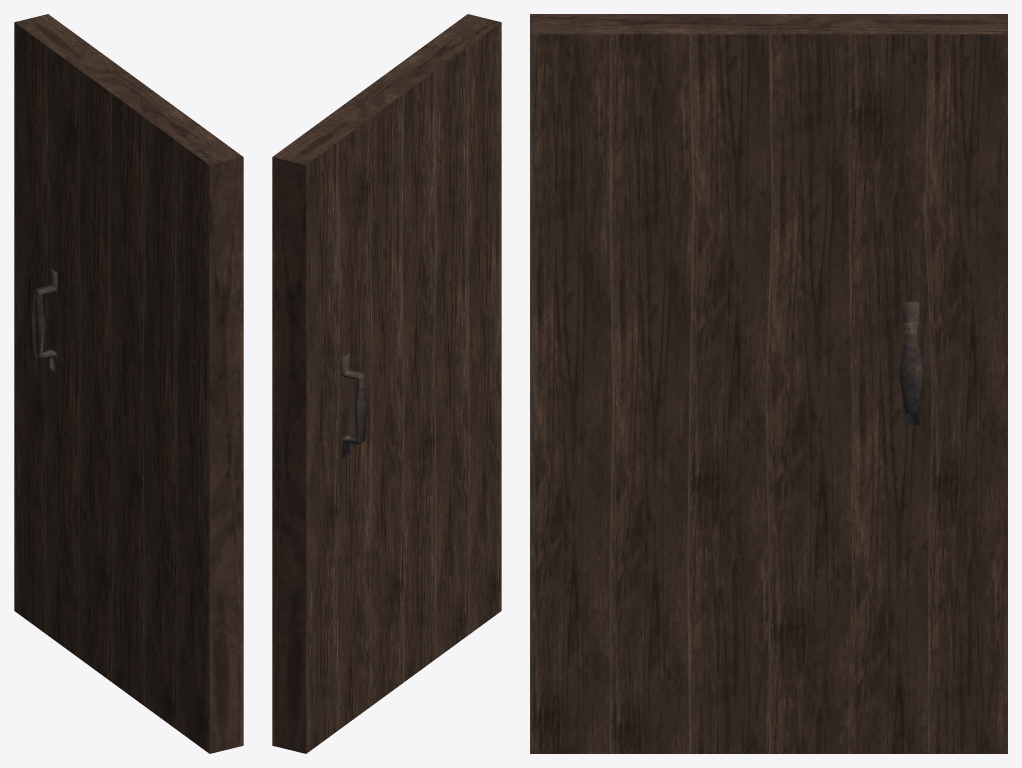
Rendered from Door.fbx.
3 renders of one model, left to right at view 1: azimuth 30°, elevation 25°; view 2: azimuth 150°, elevation 25°; view 3: azimuth 270°, elevation 25°, orthographic. The views are drawn at different scales.
Visible parts, largest first — view 1: Cube.017; view 2: Cube.017; view 3: Cube.017.
Boxes of the visible parts, box(x1,y1,x2,y2) form: Cube.017: box(14, 14, 243, 753); Cube.017: box(272, 14, 501, 753); Cube.017: box(530, 14, 1007, 753).
Size of the model in its own units: 0.4812 by 2.37 by 3.94.
